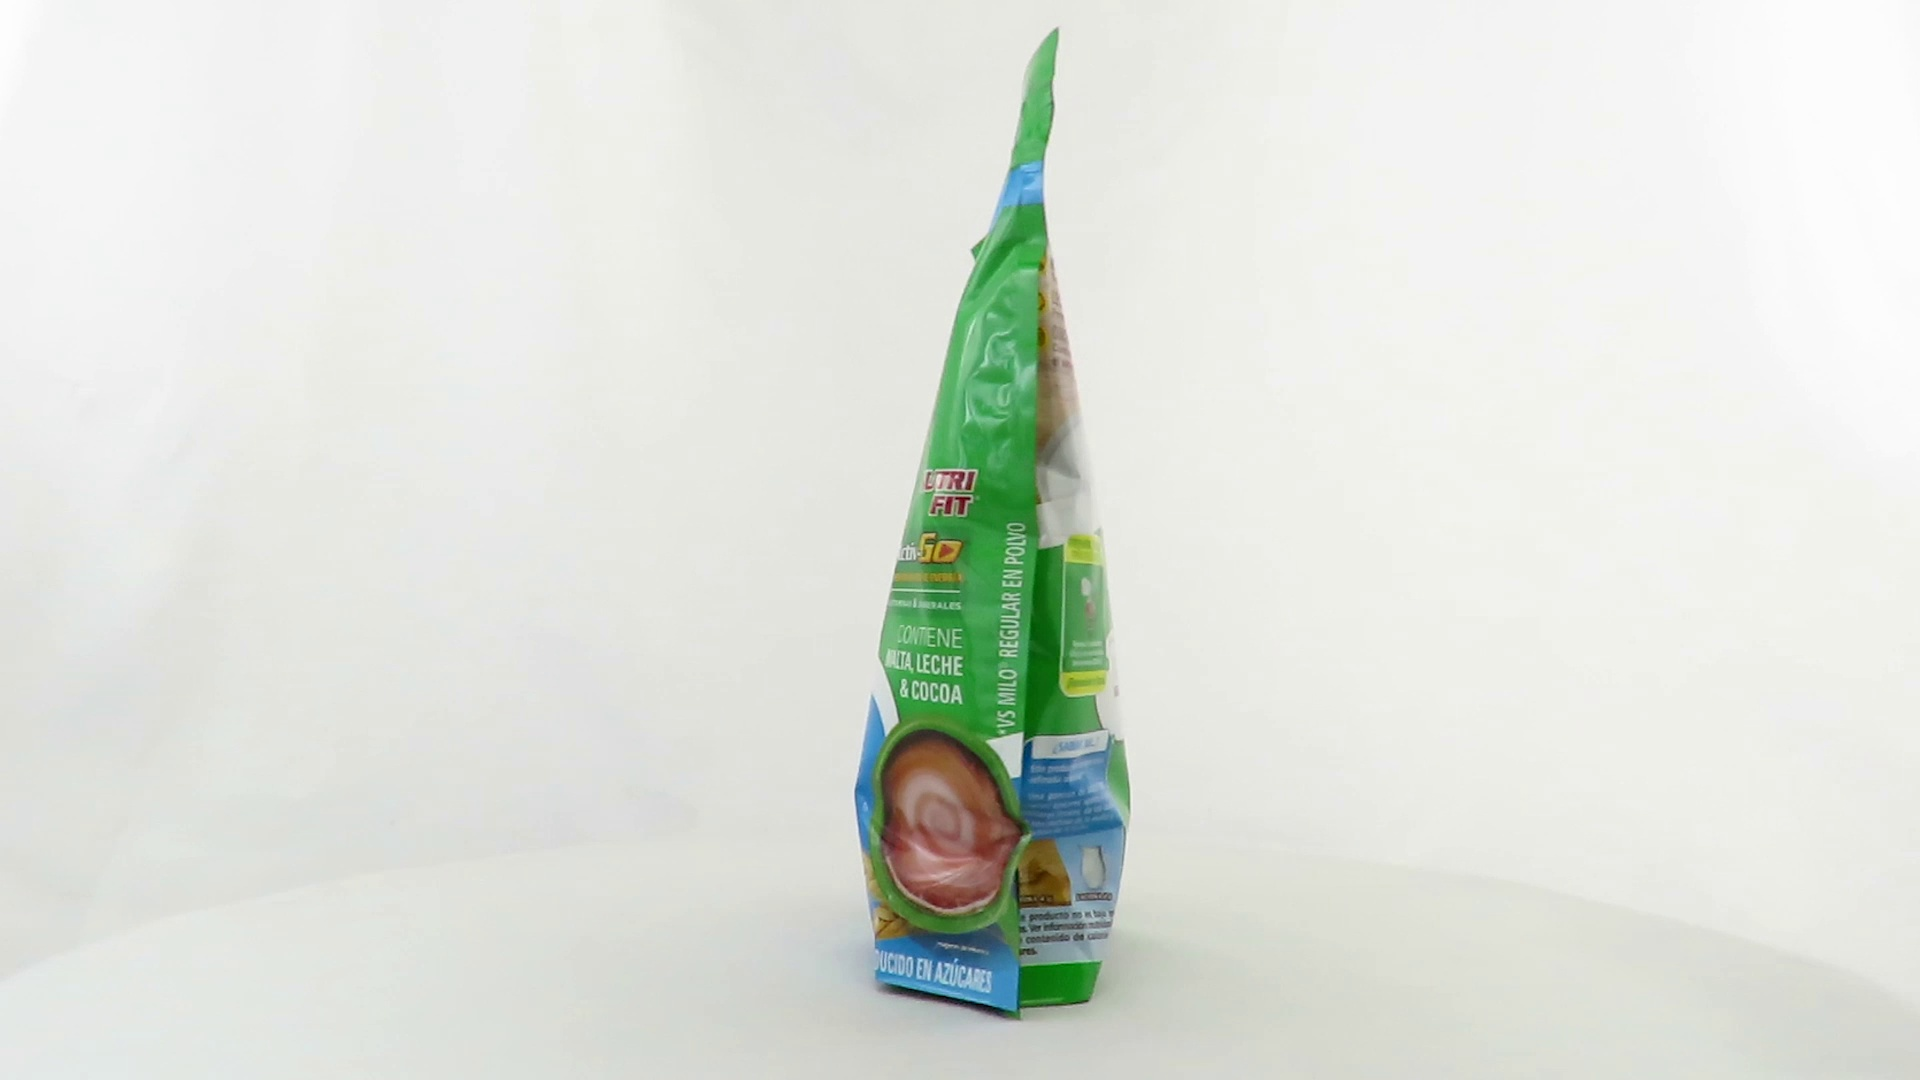COL0170205DYP50000: (849, 21, 1137, 1027)
